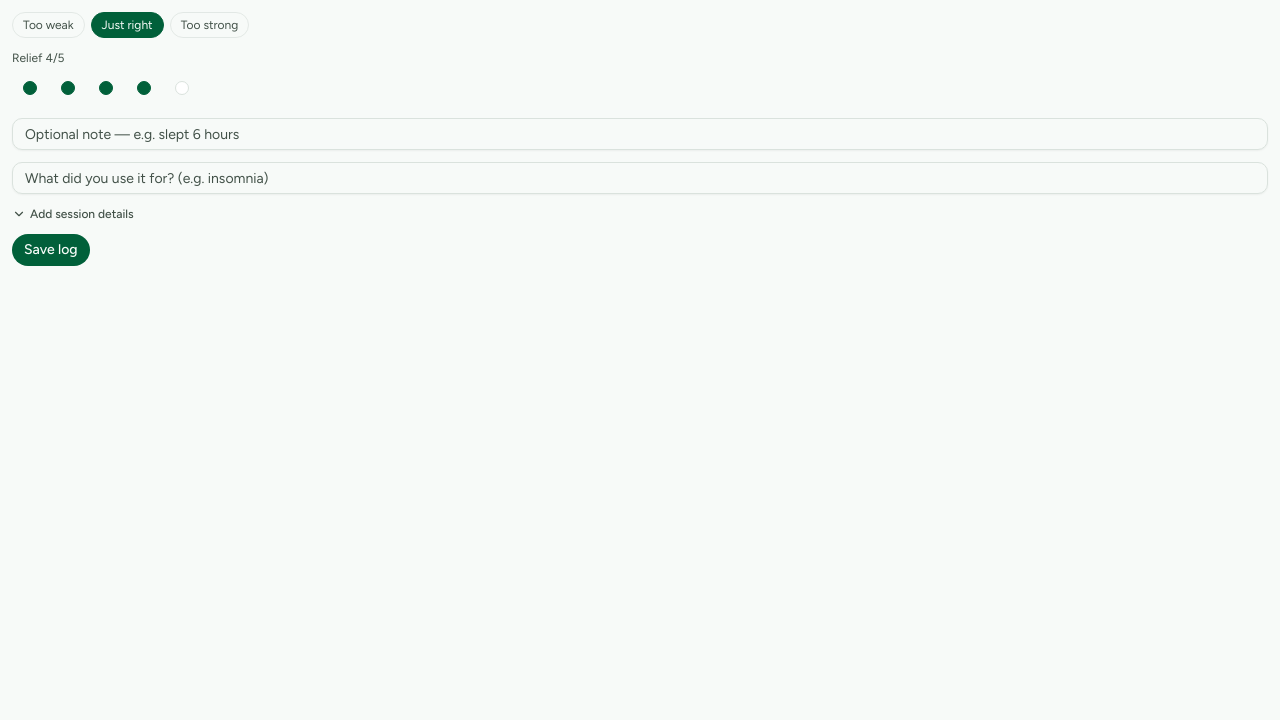
Scenario: ReliefLogButton › opening the session details shows form/dose/time-of-day/side-effect fields
The width and height of the screenshot is (1280, 720).
Click the button "Add session details" at (73,214), box [12,206,134,222]
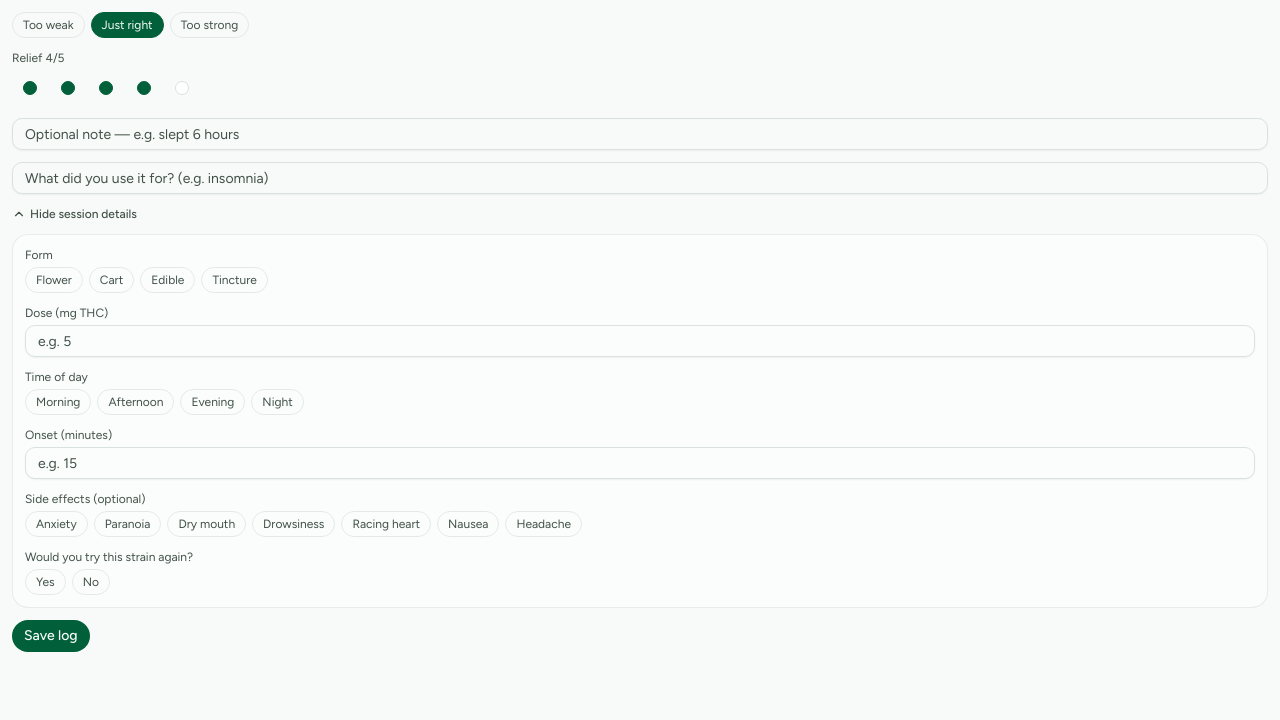
Now the button "Flower" is shown, box [25,267,83,293]
Now the button "Edible" is shown, box [140,267,195,293]
Now the number field with placeholder "e.g. 5" is shown, box [25,325,1255,357]
